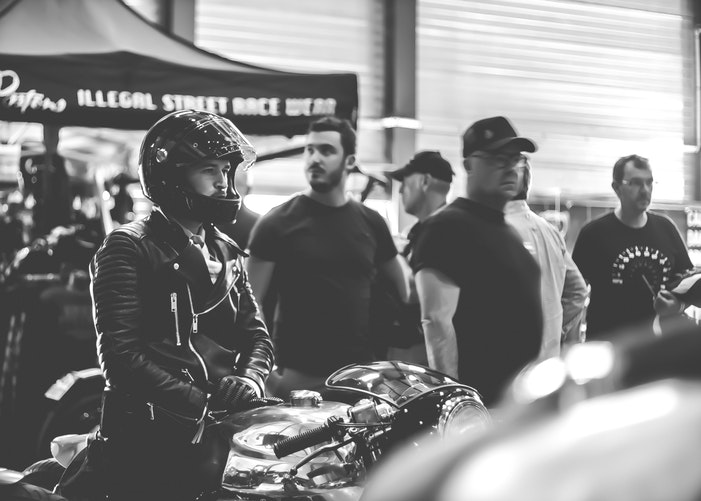helmet: (140, 109, 257, 222)
